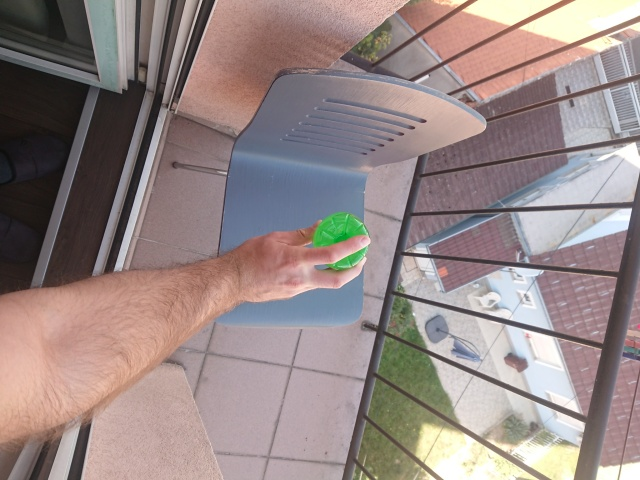Vindi Iso Sport Lemon-Grapefruit 500mL: (309, 209, 373, 273)
